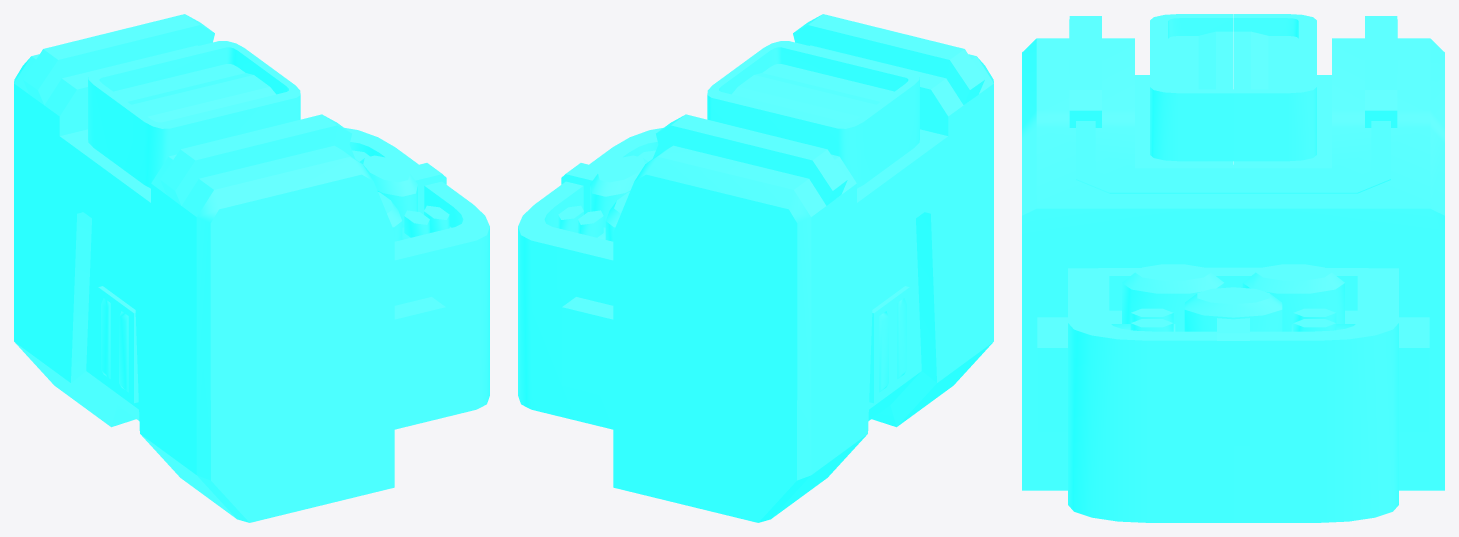
Rendered from machine.glb.
3 views of the same model, side by side, from view 1: azimuth 30°, elevation 25°; view 2: azimuth 150°, elevation 25°; view 3: azimuth 270°, elevation 25° (orthographic). The views are drawn at different scales.
Visible parts, largest first — view 1: machine; view 2: machine; view 3: machine.
Part boxes in pixels (x1,y1,x2,y2): machine: [14, 14, 489, 522]; machine: [518, 14, 993, 522]; machine: [1022, 14, 1444, 522].
Bounding box in the file's own units: 1 × 1 × 1.
